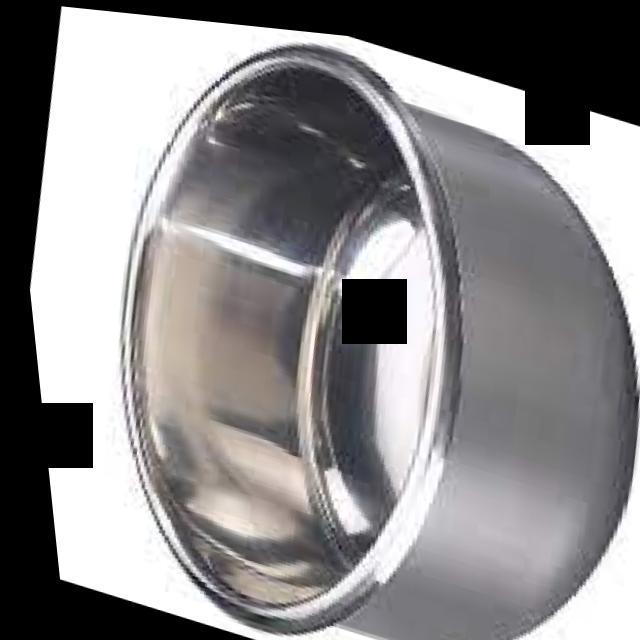Sponge Bowl: (19, 2, 640, 640)
